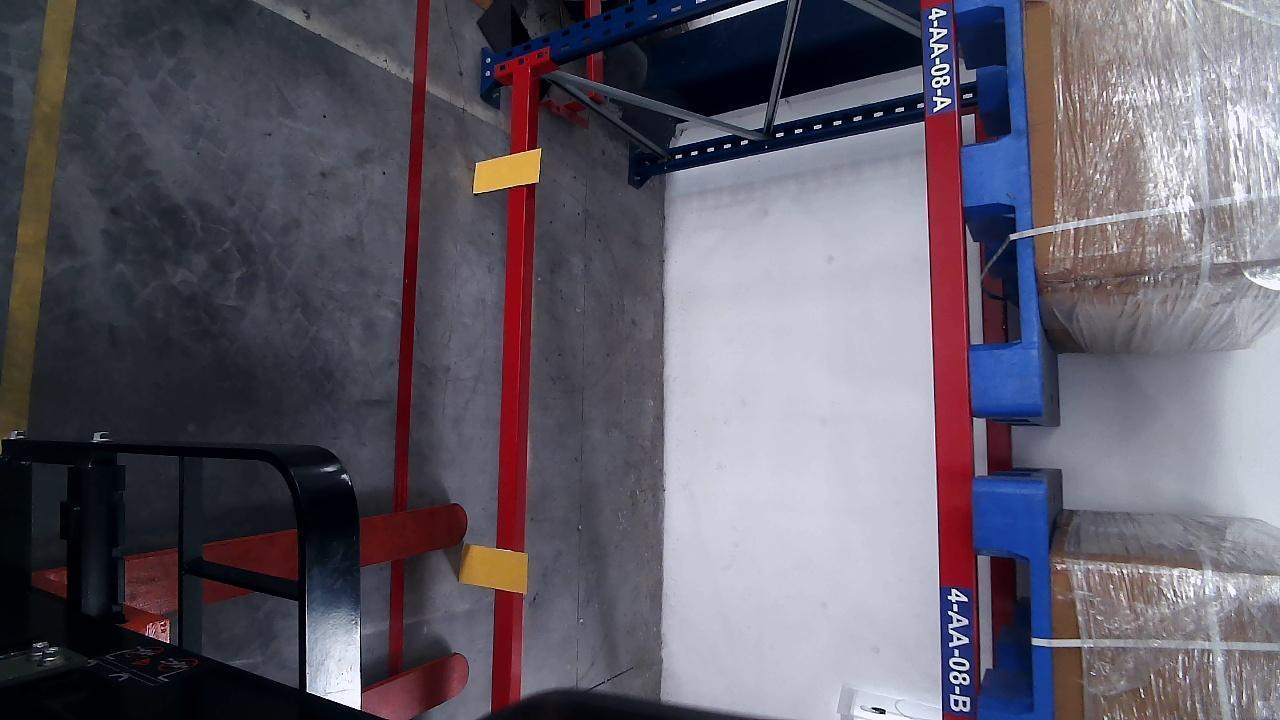red_line: (392, 2, 431, 506)
yellow_line: (0, 1, 78, 434)
